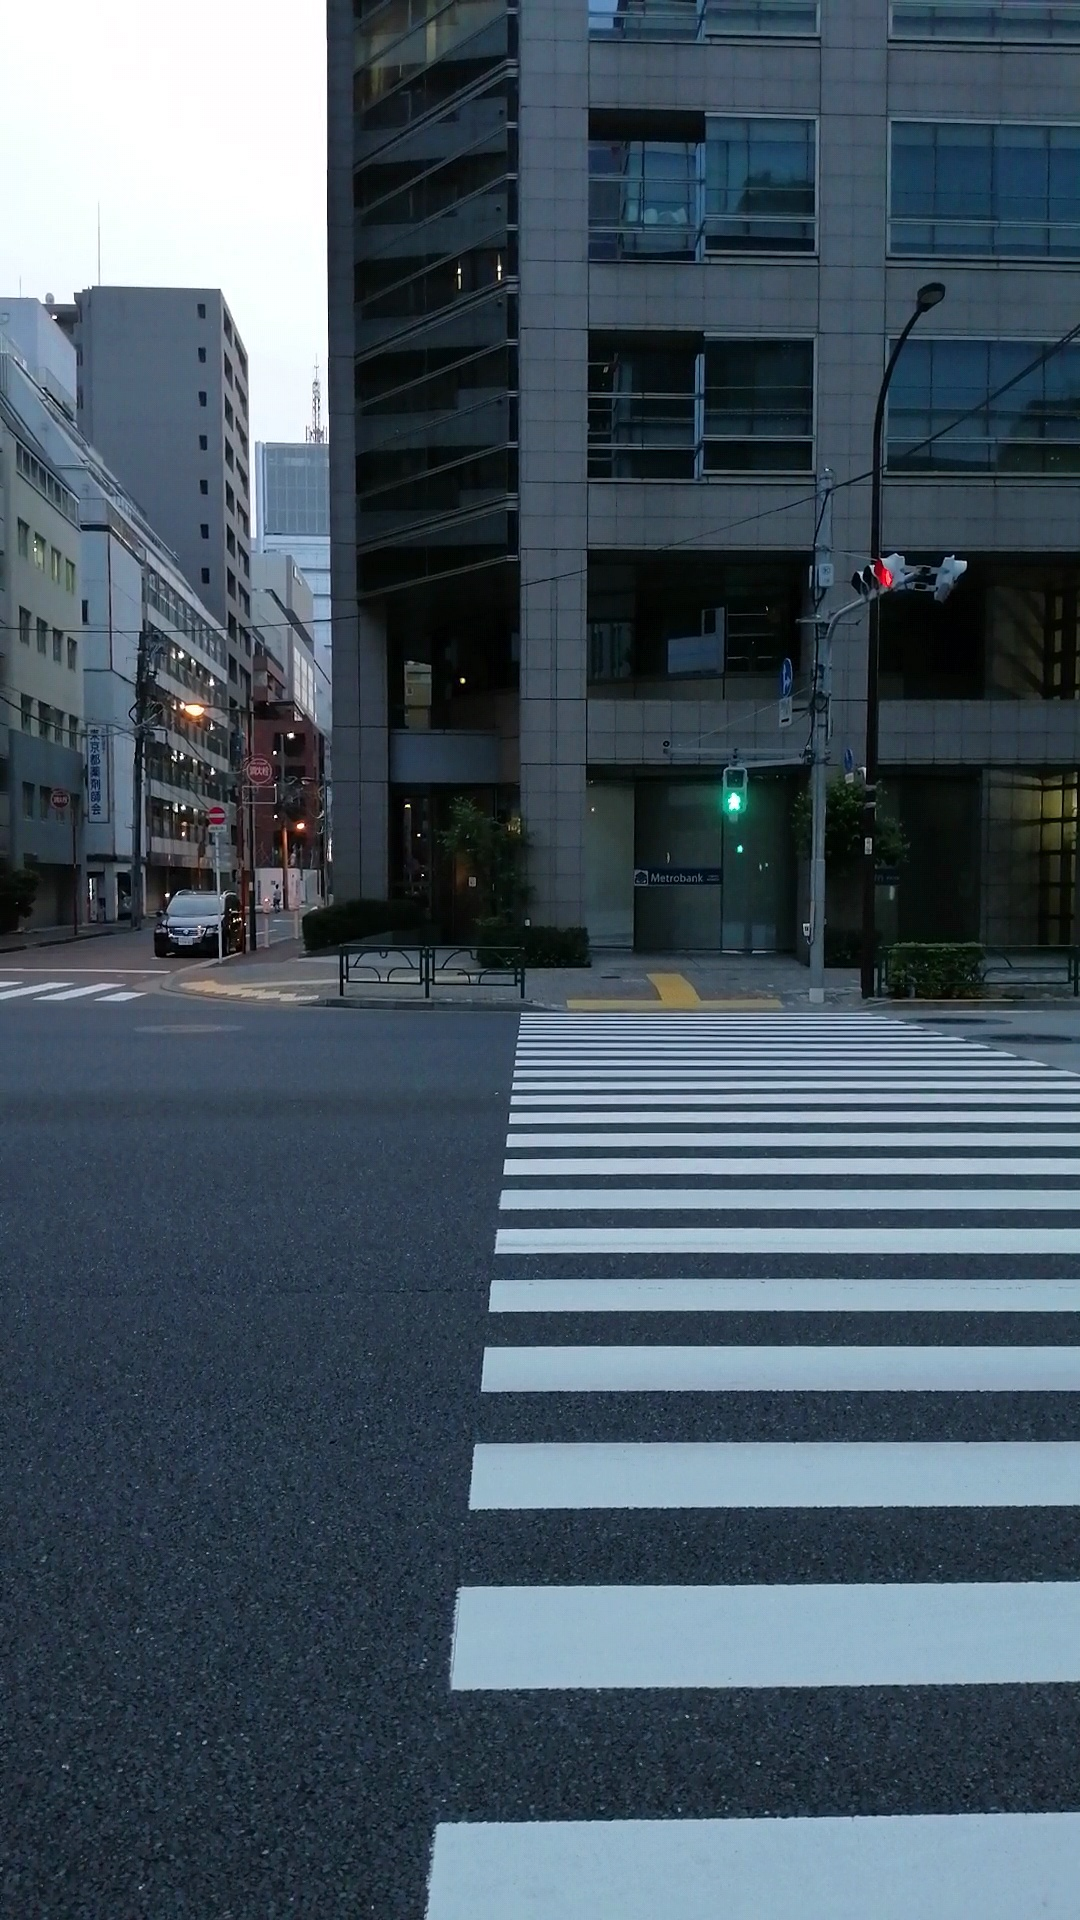green: (721, 767, 748, 814)
